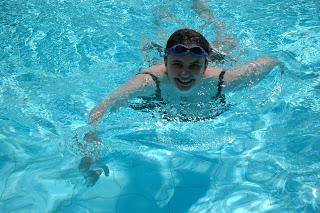human: (79, 5, 284, 144)
